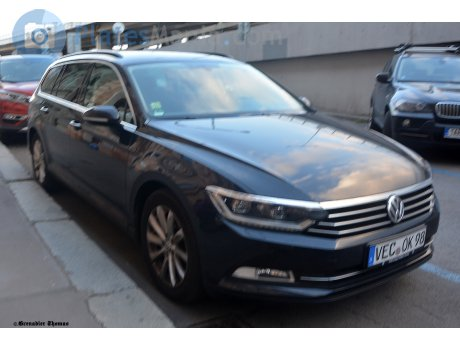License Plates: (375, 241, 428, 259)
